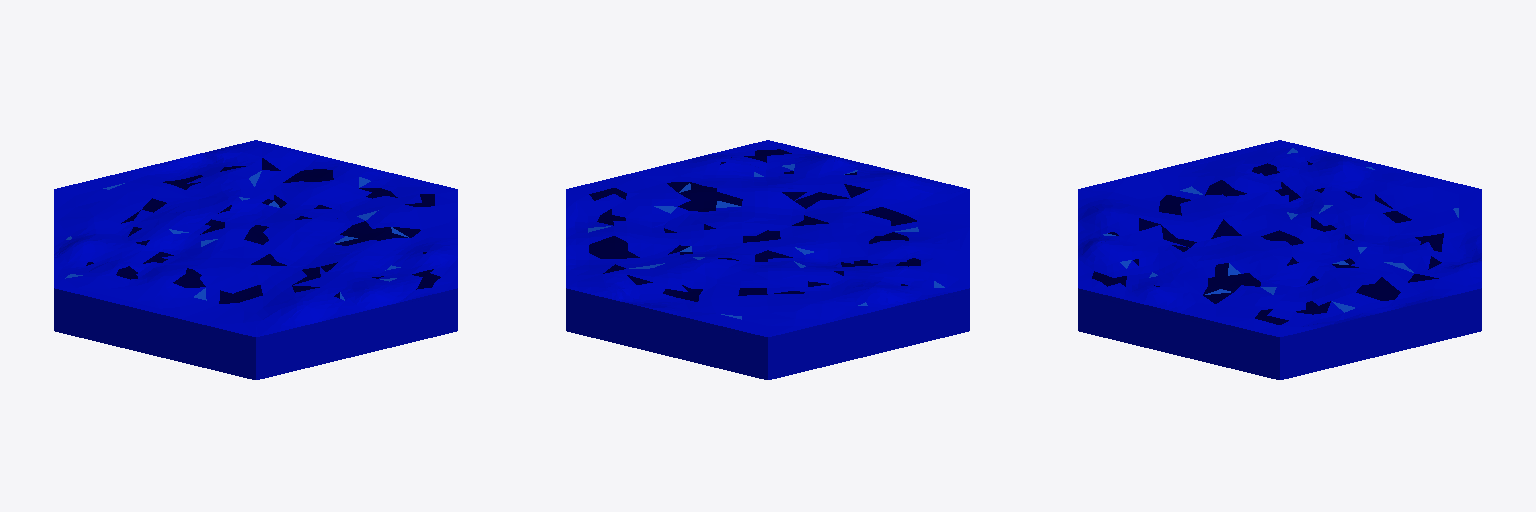
The model's file is water.obj.
3 views of the same model, side by side, from view 1: azimuth 30°, elevation 25°; view 2: azimuth 150°, elevation 25°; view 3: azimuth 270°, elevation 25° (orthographic).
Visible parts, largest first — view 1: water_v1; view 2: water_v1; view 3: water_v1.
Boxes of the visible parts, <box> form: water_v1: <box>54,140,457,379</box>; water_v1: <box>566,140,969,379</box>; water_v1: <box>1078,140,1481,379</box>.
Size of the model in its own units: 73.9 by 8.99 by 64.